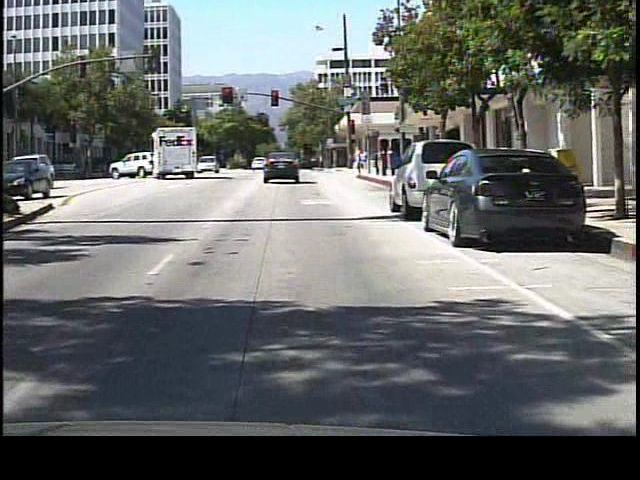person: (350, 146, 367, 180)
